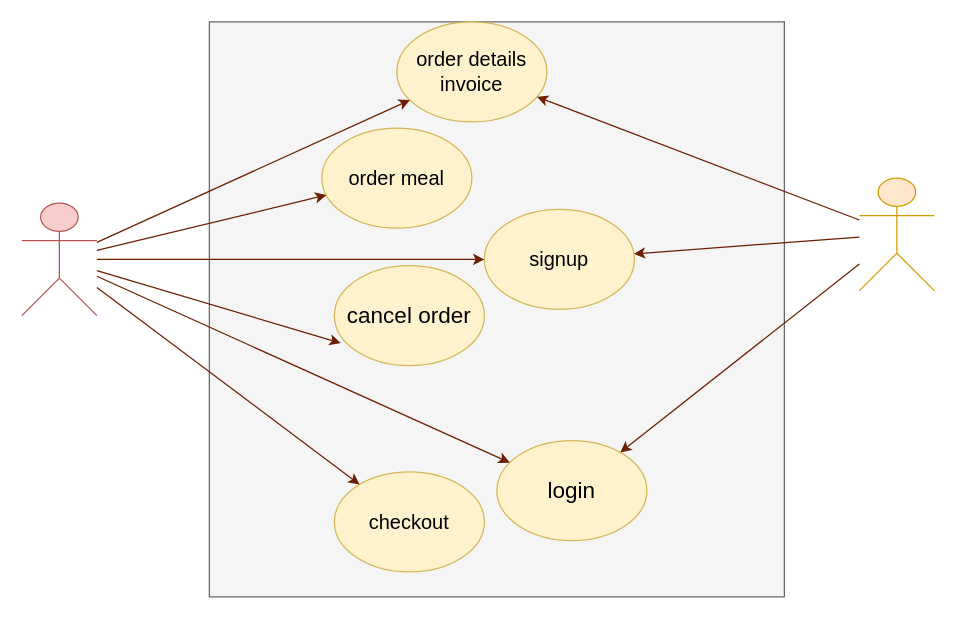
Some shapes in this 978 by 619 pixel diagram are drawn without their labels. The centre of each missing label's shape, as x and y in pixels:
"Administrator" belongs at pixel 896 234.
"User" belongs at pixel 59 259.
